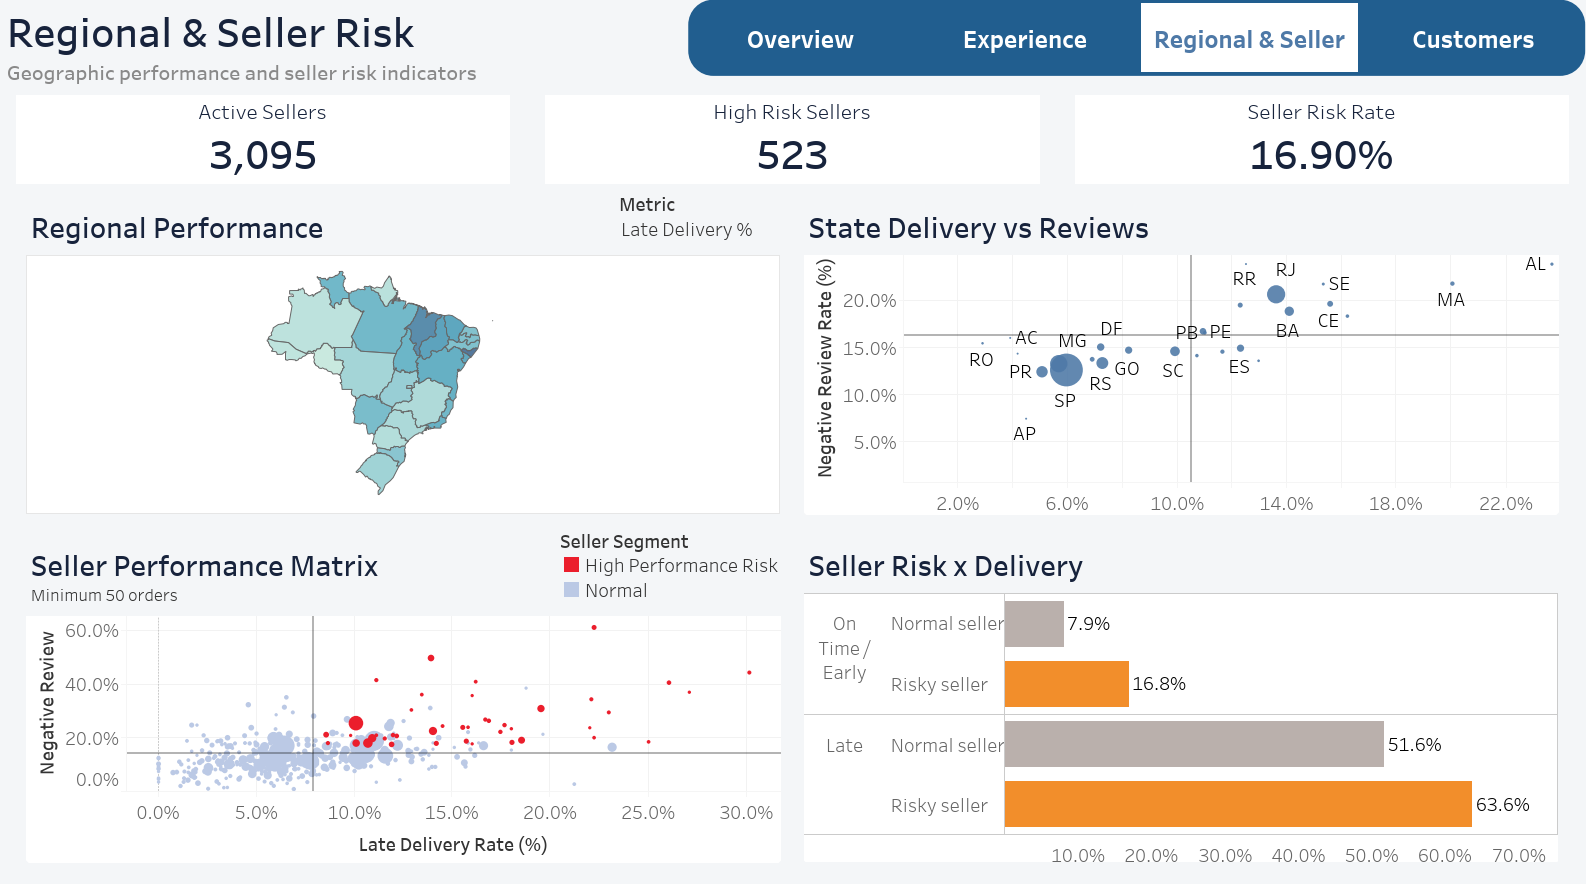

The dashboard page shown, as its layout file describes it:
{"tool":"tableau","page":{"name":"03 - Regional & Seller Risk","canvas":[1600,900],"ordinal":2},"visuals":[{"type":"text","box":[8,8,1584,90]},{"type":"dashboard-object","box":[696,8,224,76]},{"type":"dashboard-object","box":[920,8,224,76]},{"type":"dashboard-object","box":[1144,8,224,76]},{"type":"dashboard-object","box":[1368,8,223,76]},{"type":"worksheet","title":"KPI - Active Sellers","mark":"Automatic","box":[8,98,528,99]},{"type":"worksheet","title":"KPI - High Risk Sellers","mark":"Automatic","box":[536,98,528,99]},{"type":"worksheet","title":"KPI - Seller Risk Rate","mark":"Automatic","box":[1064,98,528,99]},{"type":"worksheet","title":"Regional Performance","mark":"Multipolygon","box":[8,197,792,337]},{"type":"worksheet","title":"State Delivery vs Reviews","mark":"Circle","rows":["negative_review_pct"],"cols":["late_delivery_pct"],"box":[800,197,792,337]},{"type":"parameter","param":"[Parameters].[Parameter 0321936666234883]","box":[627,198,160,52]},{"type":"legend","title":"Seller Performance Matrix","param":"[federated.0hk3ynq143gjry1fyst481jd1ths].[none:seller_segment:nk]","box":[567,533,224,76]},{"type":"worksheet","title":"Seller Performance Matrix","mark":"Circle","rows":["negative_review_pct"],"cols":["late_delivery_pct"],"box":[8,534,792,358]},{"type":"worksheet","title":"Seller Risk x Delivery","mark":"Automatic","rows":["delivery_status","seller_risk"],"cols":["negative_review_pct"],"box":[800,534,792,358]}]}

Visuals, with their boxes in screenshot pixels (x1, y1, x2, y2), scaled from the page's 1600x900 canvas onto the 1586x884 screenshot:
text: [8,8,1578,96]
dashboard-object: [690,8,912,83]
dashboard-object: [912,8,1134,83]
dashboard-object: [1134,8,1356,83]
dashboard-object: [1356,8,1577,83]
"KPI - Active Sellers" worksheet: [8,96,531,193]
"KPI - High Risk Sellers" worksheet: [531,96,1055,193]
"KPI - Seller Risk Rate" worksheet: [1055,96,1578,193]
"Regional Performance" worksheet (Multipolygon marks): [8,193,793,525]
"State Delivery vs Reviews" worksheet (Circle marks): [793,193,1578,525]
parameter: [622,194,780,246]
"Seller Performance Matrix" legend: [562,524,784,598]
"Seller Performance Matrix" worksheet (Circle marks): [8,525,793,876]
"Seller Risk x Delivery" worksheet: [793,525,1578,876]
